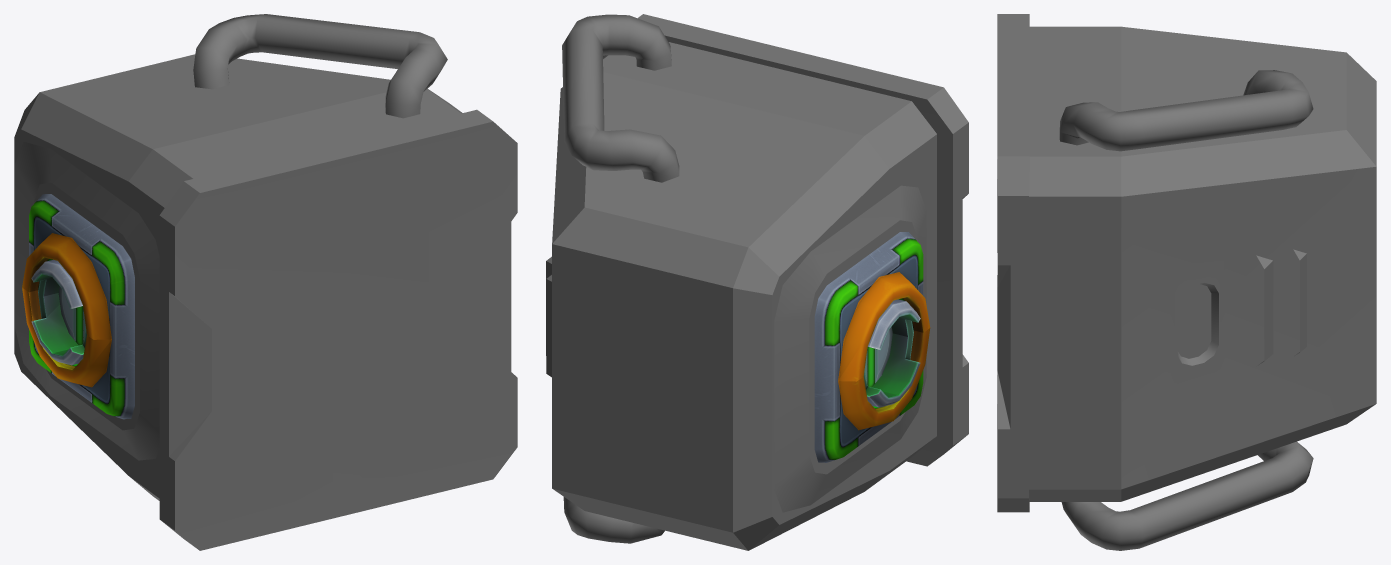
Rendered from fant_pumpjack_out.fbx.
The picture shows the model from 3 angles, left to right: view 1: azimuth 30°, elevation 25°; view 2: azimuth 150°, elevation 25°; view 3: azimuth 270°, elevation 25°; orthographic projection. The views are drawn at different scales.
Parts seen in each view (by area): view 1: Remove_Me; view 2: Remove_Me; view 3: Remove_Me.
Boxes of the visible parts, <box> form: Remove_Me: <box>14,14,517,550</box>; Remove_Me: <box>546,14,968,550</box>; Remove_Me: <box>997,14,1376,550</box>.
Size of the model in its own units: 3.35 by 3.75 by 2.99.
